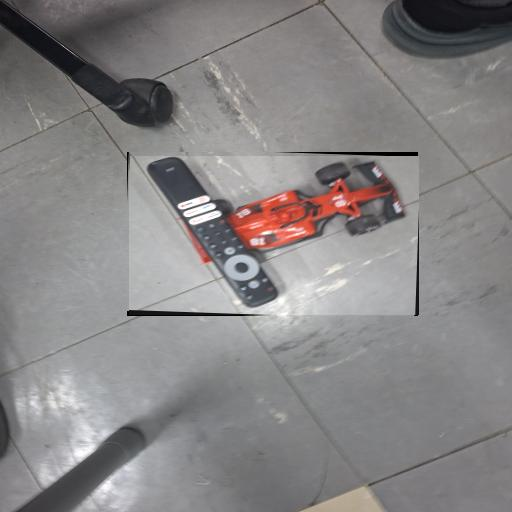carro: (129, 156, 418, 315)
